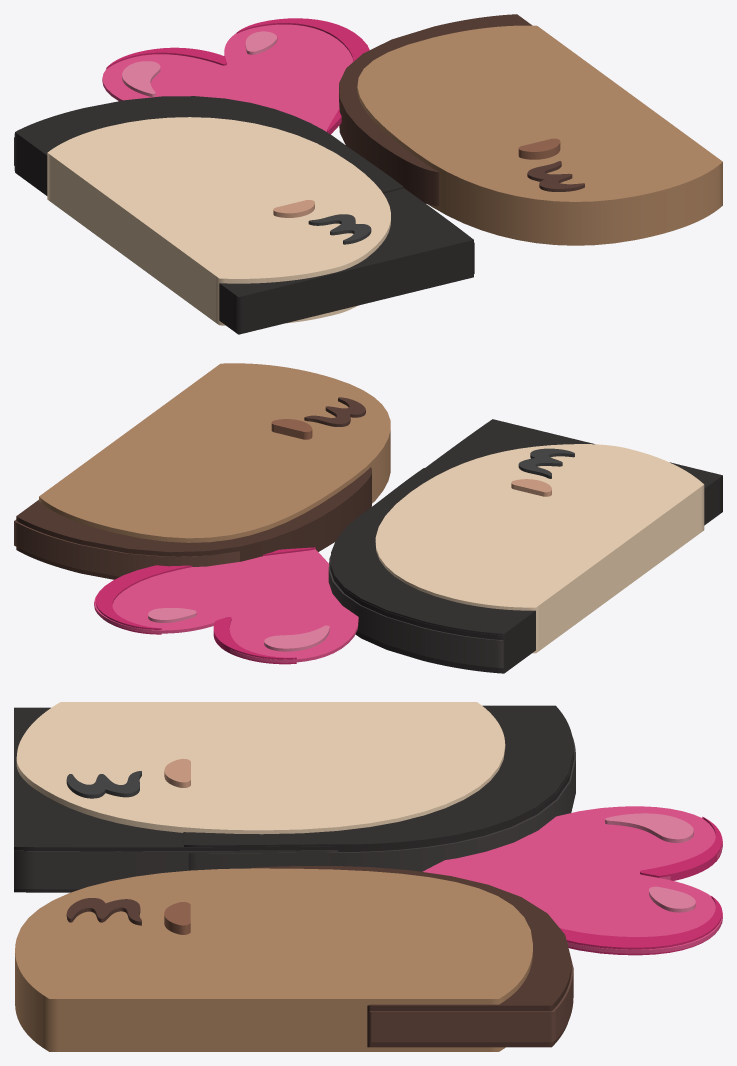
The model's file is emoji_u1f469_1f3fb_200d_2764_200d_1f48b_200d_1f468_1f3fd.glb.
3 views of the same model, one above another, from view 1: azimuth 30°, elevation 25°; view 2: azimuth 150°, elevation 25°; view 3: azimuth 270°, elevation 25° (orthographic). The views are drawn at different scales.
Parts seen in each view (by area): view 1: emoji_u1f469_1f3fb_200d_2764_200d_1f48b_200d_1f468_1f3fd; view 2: emoji_u1f469_1f3fb_200d_2764_200d_1f48b_200d_1f468_1f3fd; view 3: emoji_u1f469_1f3fb_200d_2764_200d_1f48b_200d_1f468_1f3fd.
Part boxes in pixels (x1,y1,x2,y2): emoji_u1f469_1f3fb_200d_2764_200d_1f48b_200d_1f468_1f3fd: [14, 14, 722, 334]; emoji_u1f469_1f3fb_200d_2764_200d_1f48b_200d_1f468_1f3fd: [14, 363, 722, 673]; emoji_u1f469_1f3fb_200d_2764_200d_1f48b_200d_1f468_1f3fd: [14, 702, 722, 1051].
Size of the model in its own units: 0.0336 by 0.0038 by 0.0339.
